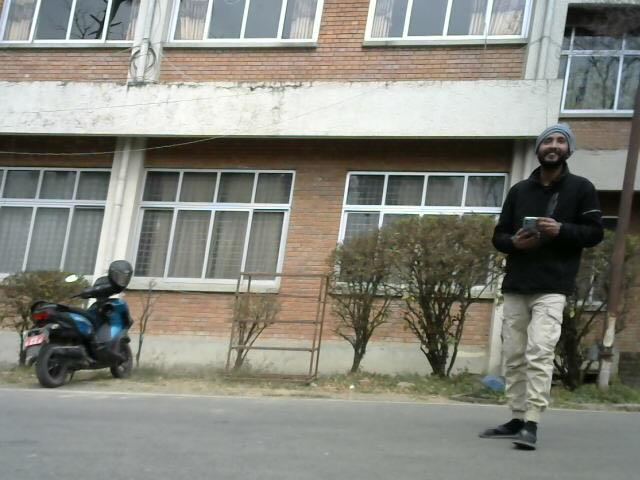Building: (0, 0, 509, 286)
Motorcycle: (316, 205, 496, 399), (32, 264, 164, 391)
Person: (489, 119, 607, 471)
Road: (2, 389, 640, 480)
